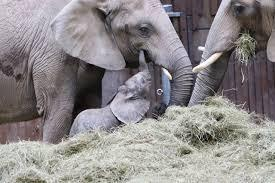elephant: (0, 0, 274, 142)
